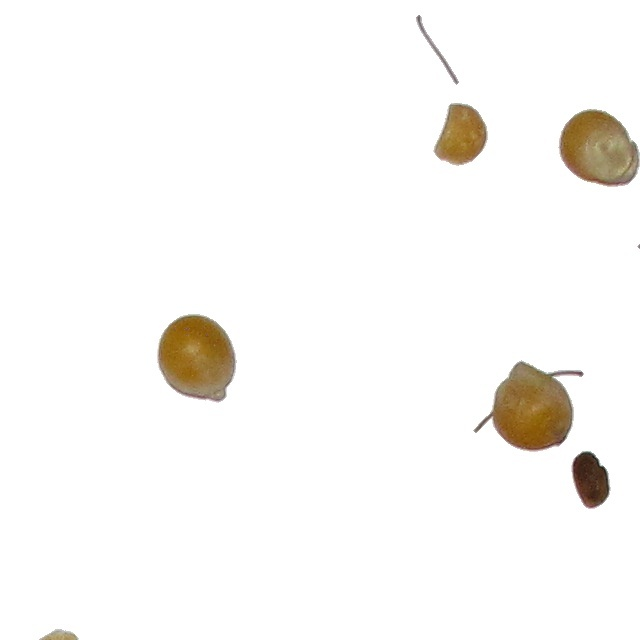buckwheat: (570, 450, 612, 510)
dill: (422, 31, 460, 86), (415, 14, 428, 37), (636, 229, 640, 250)
mais: (492, 359, 575, 457), (156, 313, 238, 404), (557, 108, 640, 188), (432, 102, 489, 167)
other: (16, 628, 83, 640)
